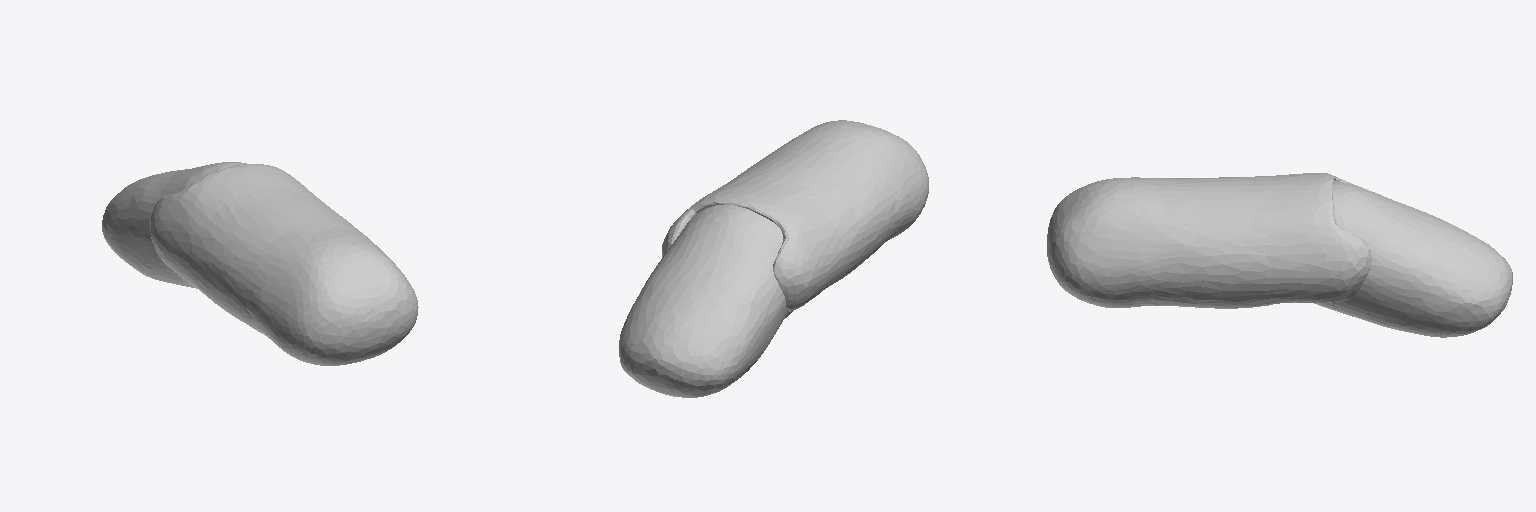
File: seg_finger_tip.obj
3 renders of one model, left to right at view 1: azimuth 30°, elevation 25°; view 2: azimuth 150°, elevation 25°; view 3: azimuth 270°, elevation 25°, orthographic.
Bounding box in the file's own units: 18.1 × 17.23 × 50.35.